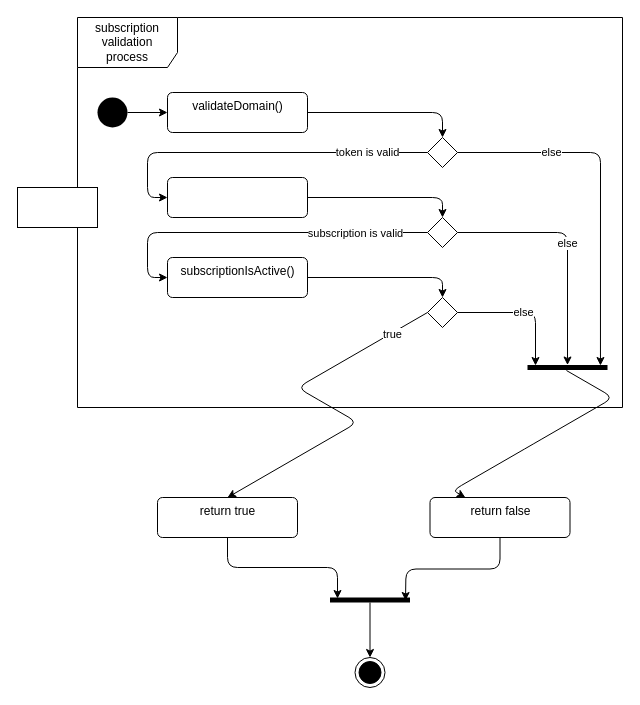
Some shapes in this 640 by 705 pixel diagram are drawn without their labels. Here are the shapes that lost their labels. From the top down, the centre of each, then its label:
the point at 57,207: Domain
the point at 237,197: hasServiceAccess()
